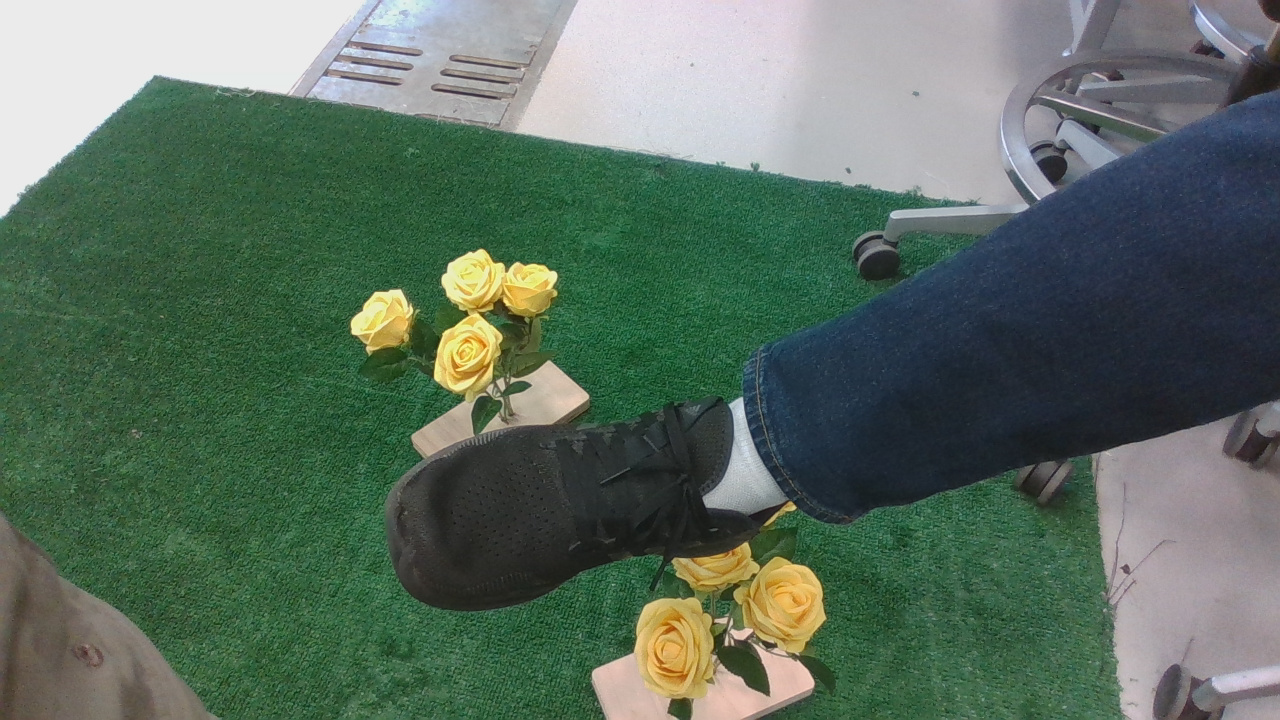rose: (349, 251, 591, 435), (630, 555, 837, 719)
